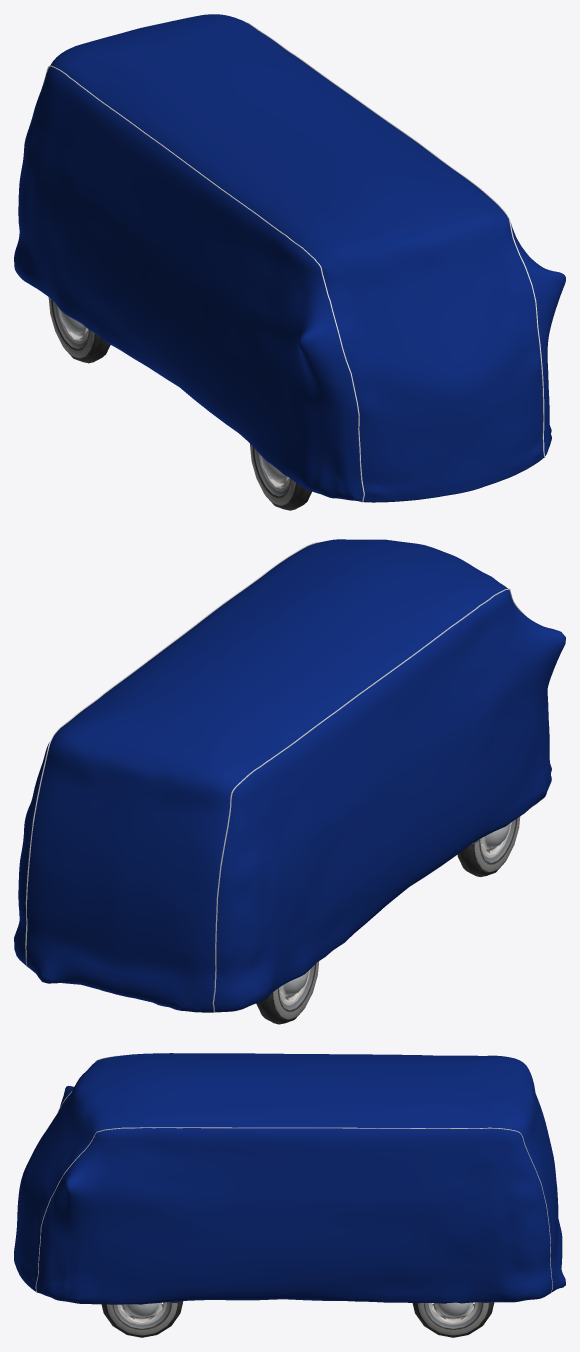
File: kombi.glb
3 renders of one model, top to bottom at view 1: azimuth 30°, elevation 25°; view 2: azimuth 150°, elevation 25°; view 3: azimuth 270°, elevation 25°, orthographic. The views are drawn at different scales.
Parts seen in each view (by area): view 1: CAPA, Bottom, LINHA.002; view 2: CAPA, Bottom, LINHA.002; view 3: CAPA, Bottom, LINHA.002.
Boxes of the visible parts, left/top/right/bottom form: CAPA: left=14, top=14, right=565, bottom=502; Bottom: left=48, top=297, right=311, bottom=510; LINHA.002: left=42, top=21, right=545, bottom=502; CAPA: left=14, top=539, right=565, bottom=1012; Bottom: left=256, top=816, right=520, bottom=1024; LINHA.002: left=25, top=542, right=525, bottom=1012; CAPA: left=14, top=1053, right=565, bottom=1304; Bottom: left=101, top=1301, right=494, bottom=1337; LINHA.002: left=35, top=1055, right=552, bottom=1292.
Bounding box in the file's own units: 2.14 × 2.22 × 4.96.
Materials: 6 (2 with a texture image).
